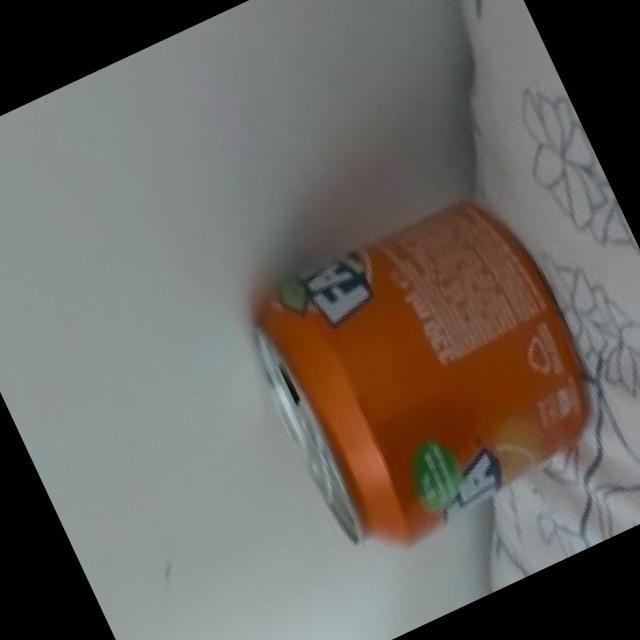Kaleng: (228, 176, 624, 572)
